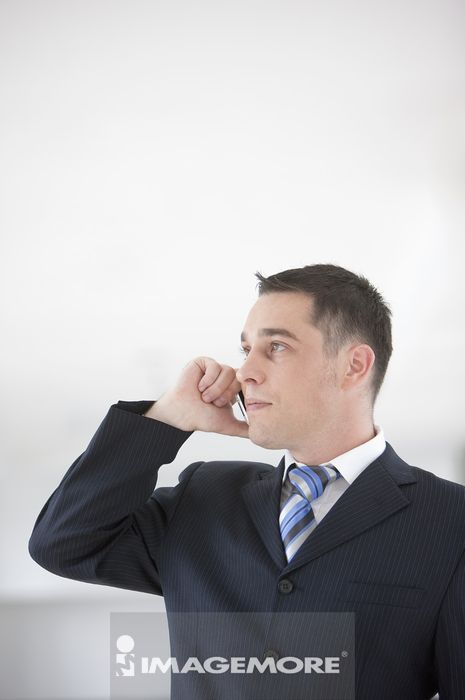talk: (154, 315, 307, 448)
